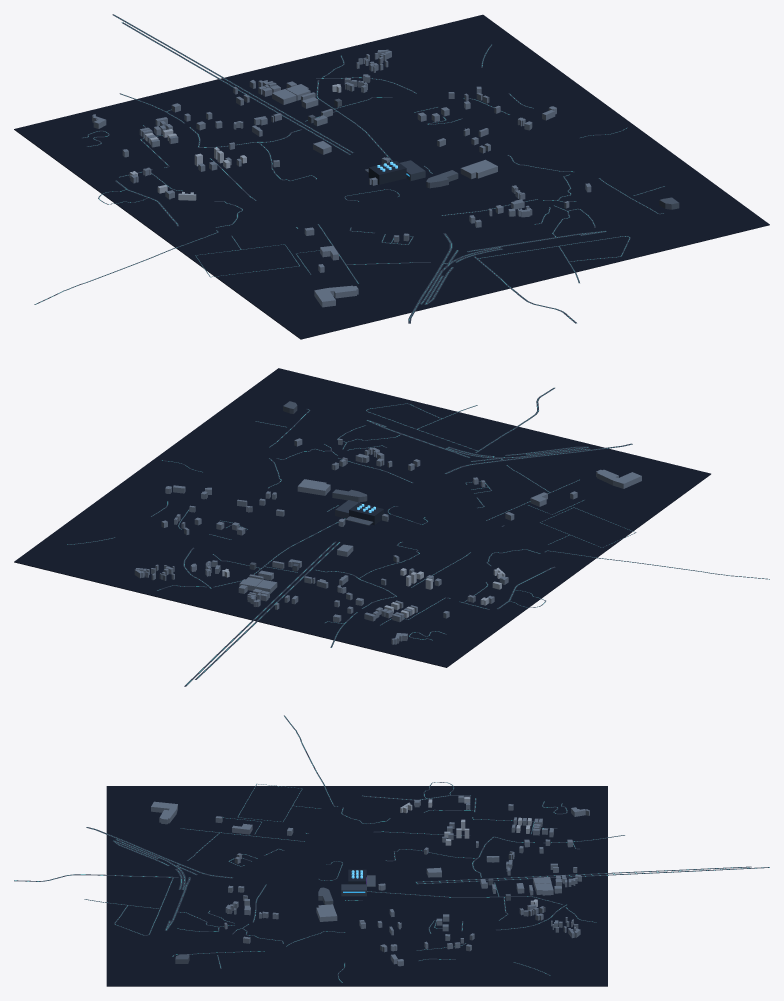
File: facility_thane.glb
3 renders of one model, top to bottom at view 1: azimuth 30°, elevation 25°; view 2: azimuth 150°, elevation 25°; view 3: azimuth 270°, elevation 25°, orthographic. The views are drawn at different scales.
Parts seen in each view (by area): view 1: GroundSlab, Building_352929176, Thane_Cold_Storage; view 2: GroundSlab; view 3: GroundSlab, Road_241501984.
Boxes of the visible parts, x1,y1,x2,y2 form: GroundSlab: (14,14,769,339); Building_352929176: (314,285,358,307); Thane_Cold_Storage: (368,161,406,184); GroundSlab: (14,368,710,667); GroundSlab: (106,786,607,986); Road_241501984: (415,866,751,882).
Bounding box in the file's own units: 10.34 × 0.1981 × 12.21.
